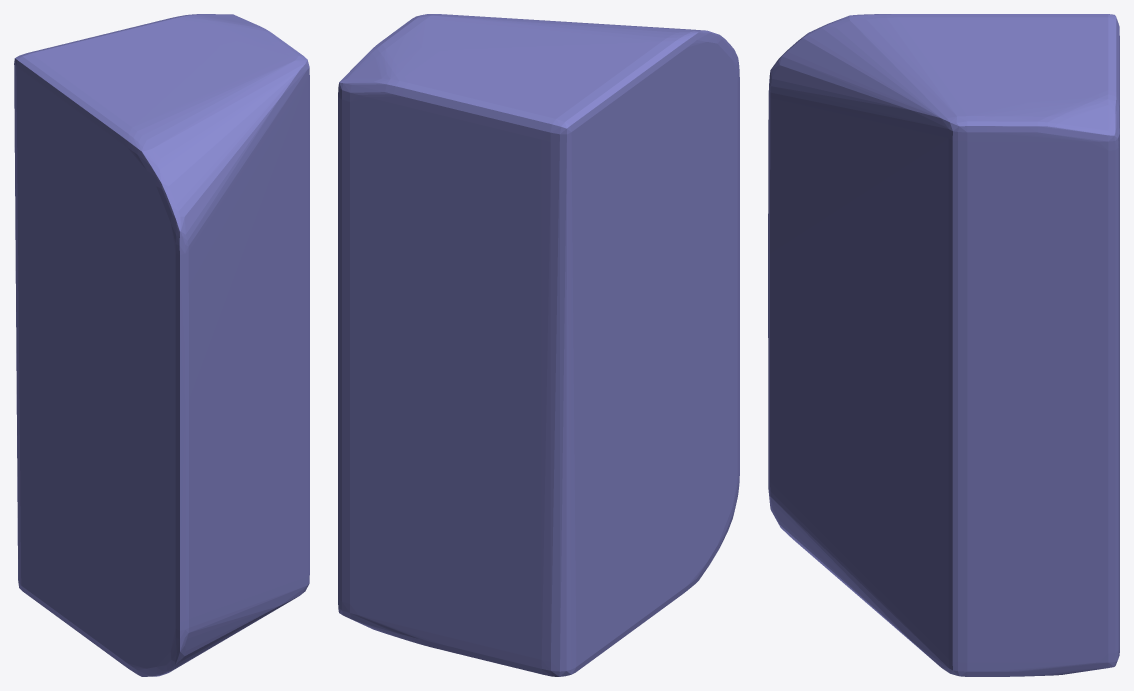
Rendered from left_lf_metacarpal_part_12.obj.
3 views of the same model, side by side, from view 1: azimuth 30°, elevation 25°; view 2: azimuth 150°, elevation 25°; view 3: azimuth 270°, elevation 25° (orthographic). The views are drawn at different scales.
Size of the model in its own units: 9.71 by 22.4 by 12.79.
